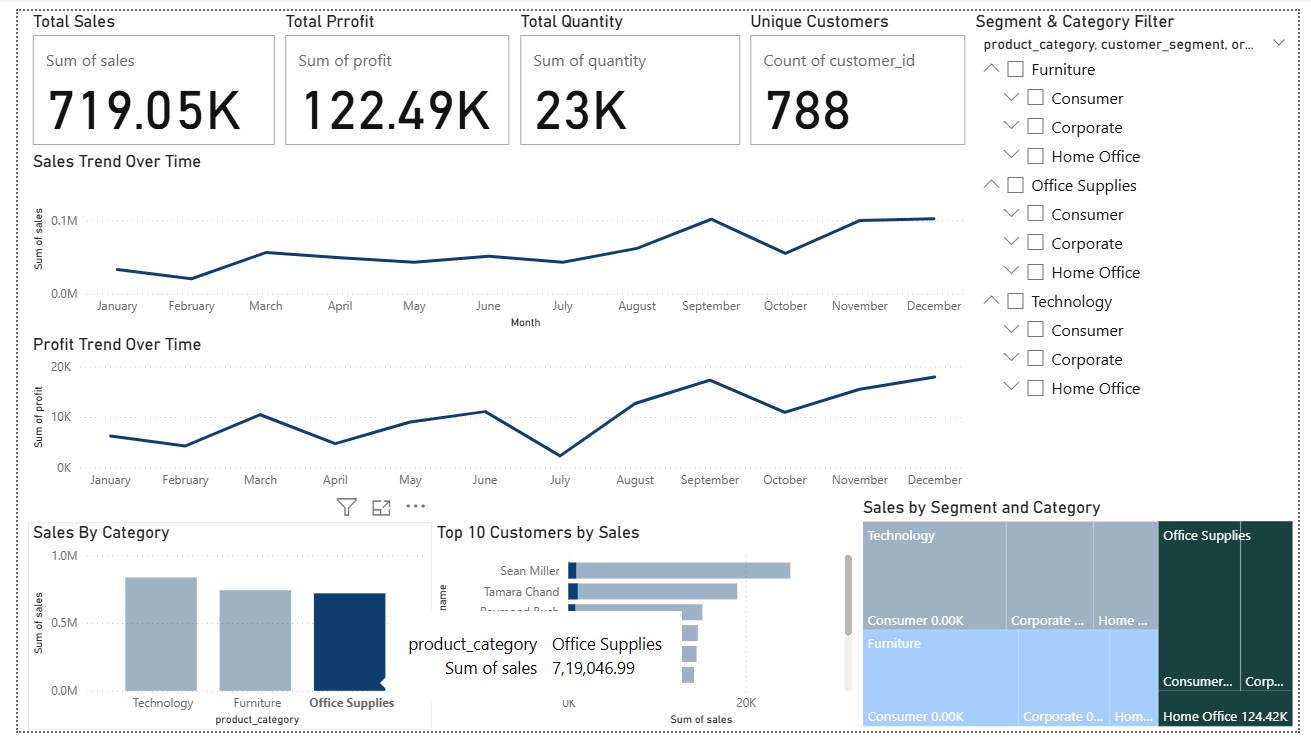

What the dashboard file says about the page in this screenshot:
{"tool":"powerbi","page":{"name":"Page 1","canvas":[1280,720],"ordinal":0},"visuals":[{"type":"cardVisual","title":"Total Sales","fields":{"Data":["Sum(public vw_sales_analysis.sales)"]},"box":[10,0,252.9,140],"z":0},{"type":"cardVisual","title":"Total Prrofit","fields":{"Data":["Sum(public vw_sales_analysis.profit)"]},"box":[262.9,0,234.3,140],"z":1000},{"type":"cardVisual","title":"Total Quantity","fields":{"Data":["Sum(public vw_sales_analysis.quantity)"]},"box":[497.1,0,230,140],"z":2000},{"type":"cardVisual","title":"Unique Customers","fields":{"Data":["Count(public vw_sales_analysis.customer_id)"]},"box":[727.1,0,225.7,140],"z":3000},{"type":"lineChart","title":"Sales Trend Over Time","fields":{"Y":["Sum(public vw_sales_analysis.sales)"],"Category":["public vw_sales_analysis.order_date.Variation.Date Hierarchy.Year","public vw_sales_analysis.order_date.Variation.Date Hierarchy.Quarter","public vw_sales_analysis.order_date.Variation.Date Hierarchy.Month","public vw_sales_analysis.order_date.Variation.Date Hierarchy.Day"]},"box":[10,140,942.9,182.9],"z":4000},{"type":"lineChart","title":"Profit Trend Over Time ","fields":{"Category":["public vw_sales_analysis.order_date.Variation.Date Hierarchy.Year","public vw_sales_analysis.order_date.Variation.Date Hierarchy.Quarter","public vw_sales_analysis.order_date.Variation.Date Hierarchy.Month","public vw_sales_analysis.order_date.Variation.Date Hierarchy.Day"],"Y":["Sum(public vw_sales_analysis.profit)"]},"box":[10,322.9,942.9,164.3],"z":5000},{"type":"clusteredColumnChart","title":"Sales By Category","fields":{"Y":["Sum(public vw_sales_analysis.sales)"],"Category":["public vw_sales_analysis.product_category"]},"box":[10,511.4,404.3,208.6],"z":6000},{"type":"barChart","title":"Top 10 Customers by Sales","fields":{"Category":["public vw_sales_analysis.customer_name"],"Y":["Sum(public vw_sales_analysis.sales)"]},"box":[414.3,511.4,425.7,208.6],"z":7000},{"type":"slicer","title":"Segment & Category Filter","fields":{"Values":["public vw_sales_analysis.product_category","public vw_sales_analysis.customer_segment","public vw_sales_analysis.order_quarter","public vw_sales_analysis.order_year"]},"box":[952.5,0,327.5,486.2],"z":8000},{"type":"treemap","title":"Sales by Segment and Category","fields":{"Group":["public vw_sales_analysis.product_category"],"Values":["Sum(public vw_sales_analysis.sales)"],"Details":["public vw_sales_analysis.customer_segment"]},"box":[840,485.7,440,234.3],"z":9000}]}

Visuals, with their boxes in screenshot pixels (x1, y1, x2, y2), scaled from the page's 1280x720 canvas onto the 1311x737 screenshot:
"Total Sales" cardVisual: {"left": 10, "top": 0, "right": 269, "bottom": 143}
"Total Prrofit" cardVisual: {"left": 269, "top": 0, "right": 509, "bottom": 143}
"Total Quantity" cardVisual: {"left": 509, "top": 0, "right": 745, "bottom": 143}
"Unique Customers" cardVisual: {"left": 745, "top": 0, "right": 976, "bottom": 143}
"Sales Trend Over Time" lineChart: {"left": 10, "top": 143, "right": 976, "bottom": 331}
"Profit Trend Over Time " lineChart: {"left": 10, "top": 331, "right": 976, "bottom": 499}
"Sales By Category" clusteredColumnChart: {"left": 10, "top": 523, "right": 424, "bottom": 736}
"Top 10 Customers by Sales" barChart: {"left": 424, "top": 523, "right": 860, "bottom": 736}
"Segment & Category Filter" slicer: {"left": 976, "top": 0, "right": 1310, "bottom": 498}
"Sales by Segment and Category" treemap: {"left": 860, "top": 497, "right": 1310, "bottom": 736}
